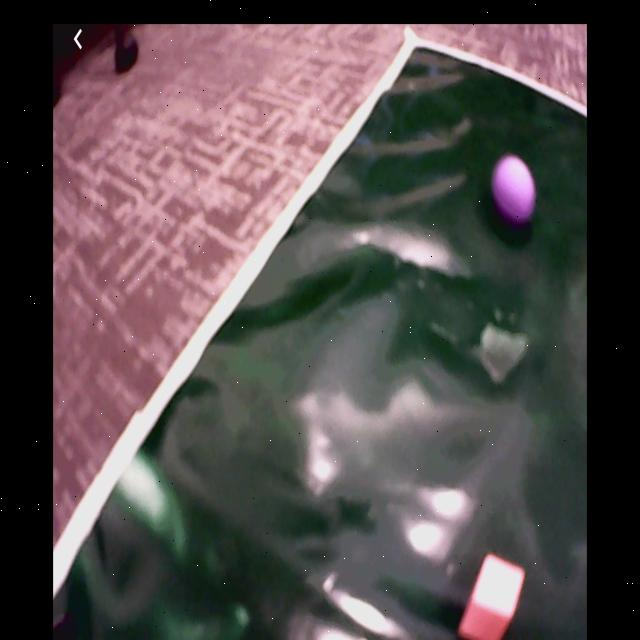ball: (493, 156, 535, 222)
